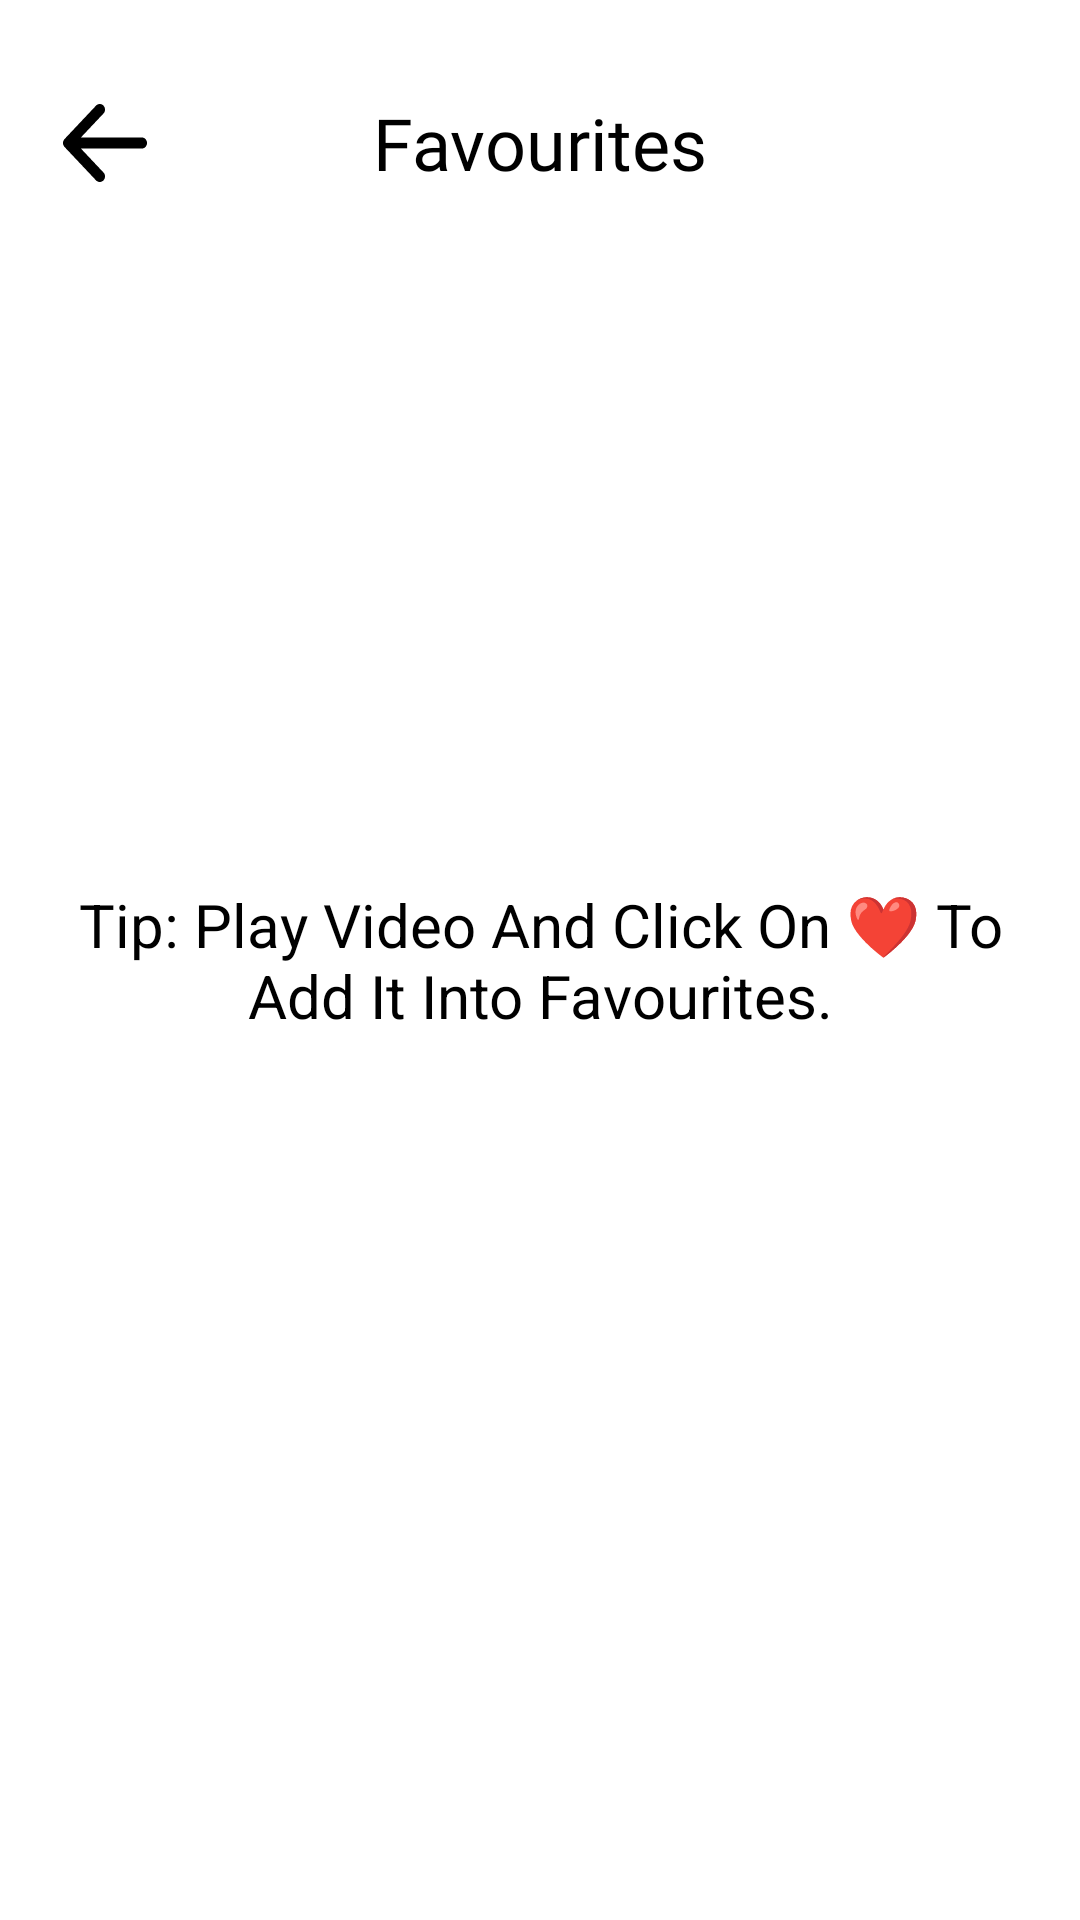

Icon bounding boxes for this 1080 x 1920 phone screenshot, format (x1, y1, x2, y2):
back arrow: (63, 104, 147, 182)
